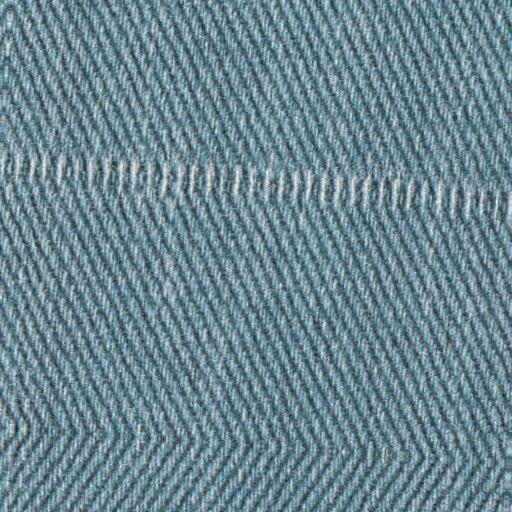slub: (5, 136, 508, 244)
